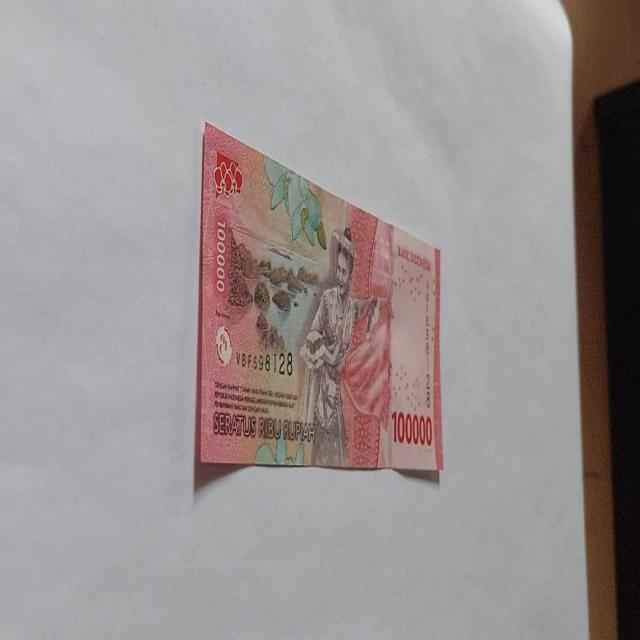seratus ribu rupiah: (196, 120, 444, 477), (296, 225, 390, 468)
